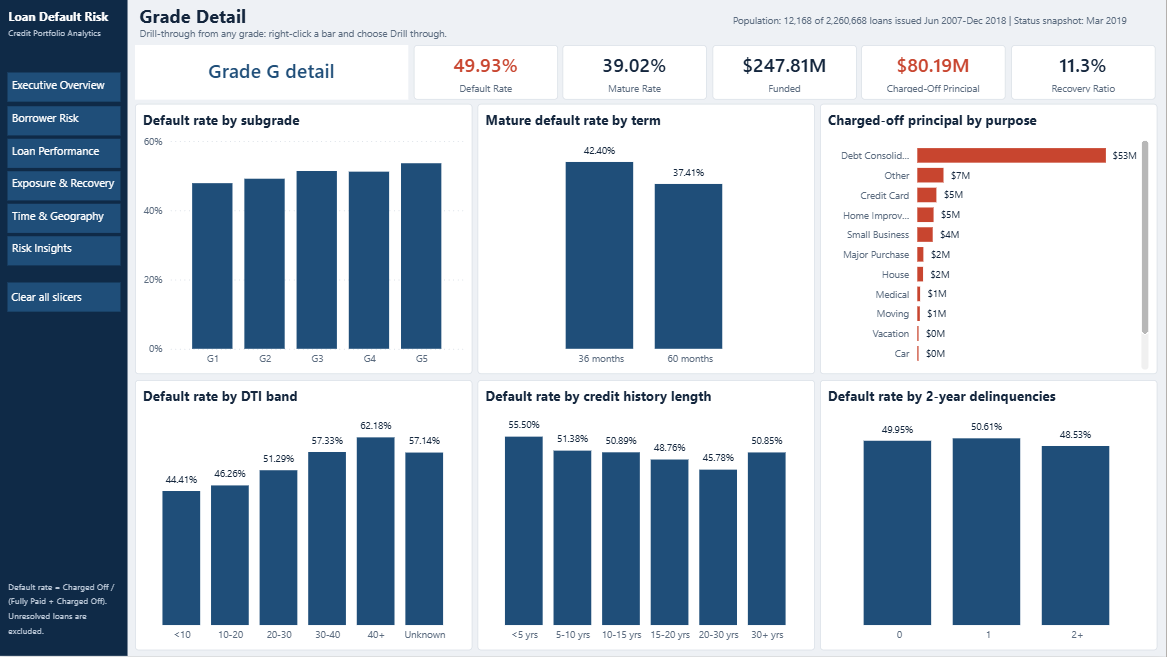

What the dashboard file says about the page in this screenshot:
{"tool":"powerbi","page":{"name":"Grade Detail","canvas":[1280,720],"ordinal":6},"visuals":[{"type":"textbox","box":[0,0,140,720],"z":0},{"type":"textbox","box":[4,4,134,72],"z":1000},{"type":"textbox","box":[8,80,124,32],"z":2000},{"type":"actionButton","box":[8,80,124,32],"z":3000},{"type":"textbox","box":[8,116,124,32],"z":4000},{"type":"actionButton","box":[8,116,124,32],"z":5000},{"type":"textbox","box":[8,152,124,32],"z":6000},{"type":"actionButton","box":[8,152,124,32],"z":7000},{"type":"textbox","box":[8,188,124,32],"z":8000},{"type":"actionButton","box":[8,188,124,32],"z":9000},{"type":"textbox","box":[8,224,124,32],"z":10000},{"type":"actionButton","box":[8,224,124,32],"z":11000},{"type":"textbox","box":[8,260,124,32],"z":12000},{"type":"actionButton","box":[8,260,124,32],"z":13000},{"type":"textbox","box":[8,310,124,32],"z":14000},{"type":"actionButton","box":[8,310,124,32],"z":15000},{"type":"textbox","box":[4,630,134,86],"z":16000},{"type":"textbox","box":[148,-2,620,40],"z":17000},{"type":"textbox","box":[148,24,720,26],"z":18000},{"type":"card","fields":{"Values":["fact_loans.Scope Label"]},"box":[770,6,502,40],"z":19000},{"type":"card","fields":{"Values":["fact_loans.Drill Title"]},"box":[148,50,300,60],"z":20000},{"type":"card","fields":{"Values":["fact_loans.Historical Default Rate"]},"box":[454,50,158,60],"z":21000},{"type":"card","fields":{"Values":["fact_loans.Mature Default Rate"]},"box":[618,50,158,60],"z":22000},{"type":"card","fields":{"Values":["fact_loans.Total Funded Amount"]},"box":[782,50,158,60],"z":23000},{"type":"card","fields":{"Values":["fact_loans.Charged-Off Principal Exposure"]},"box":[946,50,158,60],"z":24000},{"type":"card","fields":{"Values":["fact_loans.Recovery Ratio"]},"box":[1110,50,158,60],"z":25000},{"type":"clusteredColumnChart","title":"Default rate by subgrade","fields":{"Category":["dim_grade.sub_grade"],"Y":["fact_loans.Historical Default Rate"]},"box":[148,114,370,297],"z":26000},{"type":"clusteredColumnChart","title":"Mature default rate by term","fields":{"Category":["dim_term.term_label"],"Y":["fact_loans.Mature Default Rate"]},"box":[524,114,370,297],"z":27000},{"type":"clusteredBarChart","title":"Charged-off principal by purpose","fields":{"Category":["dim_purpose.purpose_label"],"Y":["fact_loans.Charged-Off Principal Exposure"]},"box":[900,114,370,297],"z":28000},{"type":"clusteredColumnChart","title":"Default rate by DTI band","fields":{"Category":["dim_dti_band.dti_band"],"Y":["fact_loans.Historical Default Rate"]},"box":[148,417,370,297],"z":29000},{"type":"clusteredColumnChart","title":"Default rate by credit history length","fields":{"Category":["dim_credit_history_band.credit_history_band"],"Y":["fact_loans.Historical Default Rate"]},"box":[524,417,370,297],"z":30000},{"type":"clusteredColumnChart","title":"Default rate by 2-year delinquencies","fields":{"Category":["dim_delinq_band.delinq_band"],"Y":["fact_loans.Historical Default Rate"]},"box":[900,417,370,297],"z":31000}]}

Visuals, with their boxes on the page's 1280x720 design canvas (x1, y1, x2, y2). These are canvas units, not pixel positions in the 1167x657 screenshot, which may show the page scaled, cropped or inside an application window:
textbox: Rect(0, 0, 140, 720)
textbox: Rect(4, 4, 138, 76)
textbox: Rect(8, 80, 132, 112)
actionButton: Rect(8, 80, 132, 112)
textbox: Rect(8, 116, 132, 148)
actionButton: Rect(8, 116, 132, 148)
textbox: Rect(8, 152, 132, 184)
actionButton: Rect(8, 152, 132, 184)
textbox: Rect(8, 188, 132, 220)
actionButton: Rect(8, 188, 132, 220)
textbox: Rect(8, 224, 132, 256)
actionButton: Rect(8, 224, 132, 256)
textbox: Rect(8, 260, 132, 292)
actionButton: Rect(8, 260, 132, 292)
textbox: Rect(8, 310, 132, 342)
actionButton: Rect(8, 310, 132, 342)
textbox: Rect(4, 630, 138, 716)
textbox: Rect(148, -2, 768, 38)
textbox: Rect(148, 24, 868, 50)
card - fact_loans.Scope Label: Rect(770, 6, 1272, 46)
card - fact_loans.Drill Title: Rect(148, 50, 448, 110)
card - fact_loans.Historical Default Rate: Rect(454, 50, 612, 110)
card - fact_loans.Mature Default Rate: Rect(618, 50, 776, 110)
card - fact_loans.Total Funded Amount: Rect(782, 50, 940, 110)
card - fact_loans.Charged-Off Principal Exposure: Rect(946, 50, 1104, 110)
card - fact_loans.Recovery Ratio: Rect(1110, 50, 1268, 110)
"Default rate by subgrade" clusteredColumnChart: Rect(148, 114, 518, 411)
"Mature default rate by term" clusteredColumnChart: Rect(524, 114, 894, 411)
"Charged-off principal by purpose" clusteredBarChart: Rect(900, 114, 1270, 411)
"Default rate by DTI band" clusteredColumnChart: Rect(148, 417, 518, 714)
"Default rate by credit history length" clusteredColumnChart: Rect(524, 417, 894, 714)
"Default rate by 2-year delinquencies" clusteredColumnChart: Rect(900, 417, 1270, 714)
